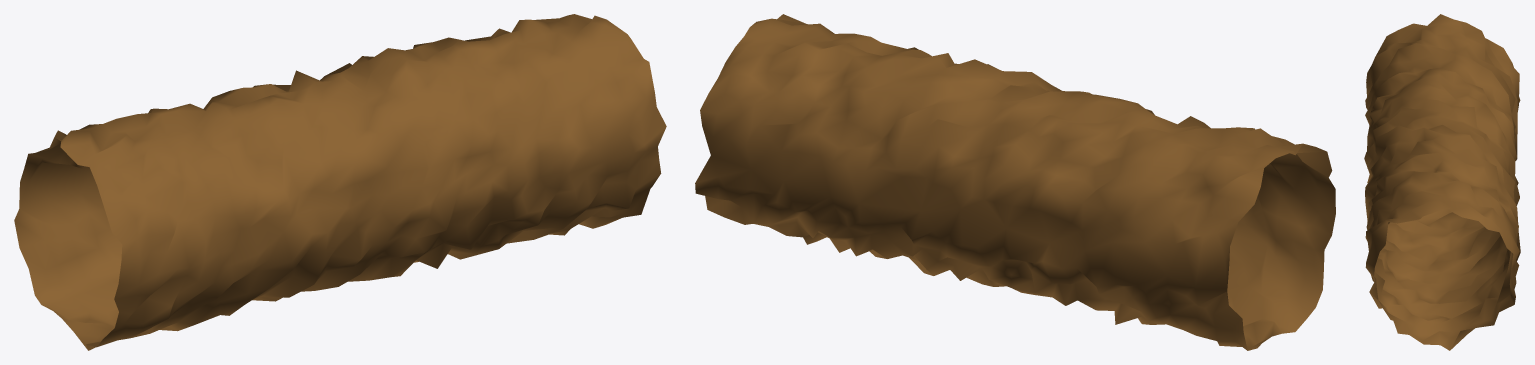
Rendered from BackgroundCylinder.fbx.
3 views of the same model, side by side, from view 1: azimuth 30°, elevation 25°; view 2: azimuth 150°, elevation 25°; view 3: azimuth 270°, elevation 25° (orthographic). The views are drawn at different scales.
Parts seen in each view (by area): view 1: Plane; view 2: Plane; view 3: Plane.
Part boxes in pixels (x1,y1,x2,y2): Plane: (14, 14, 666, 350); Plane: (695, 14, 1335, 350); Plane: (1364, 14, 1520, 350).
Bounding box in the file's own units: 206 × 72.25 × 70.19.
